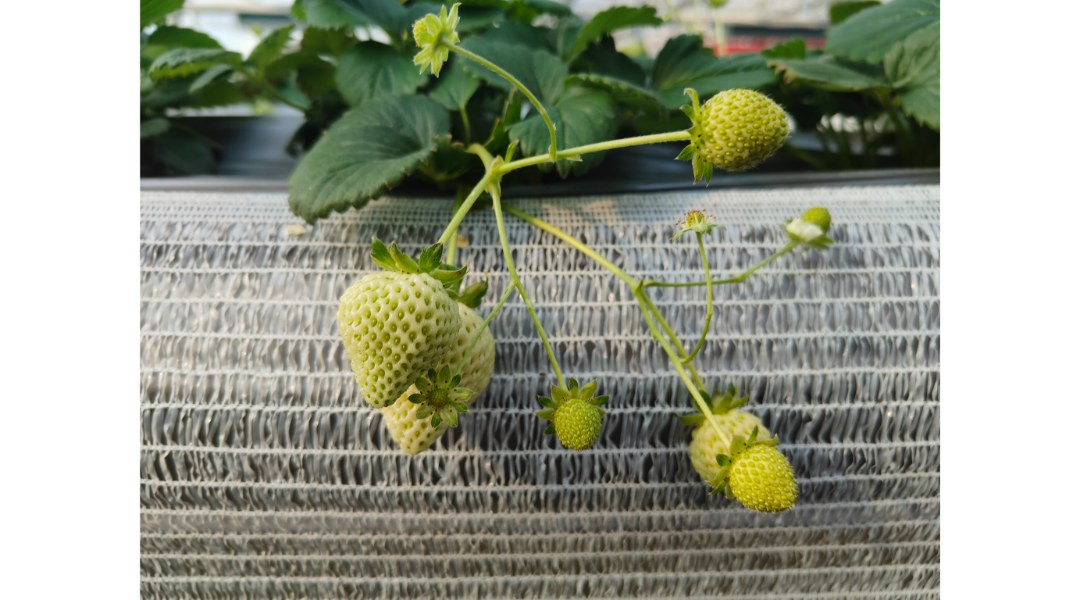berry: (336, 235, 454, 407), (389, 285, 510, 447), (674, 81, 800, 179), (678, 393, 780, 489), (724, 435, 800, 514), (545, 379, 609, 456), (408, 0, 464, 67), (786, 207, 836, 251), (674, 207, 713, 235)
strain: (456, 48, 558, 144), (504, 127, 683, 174), (515, 207, 623, 277), (521, 294, 570, 374), (442, 177, 483, 233)
